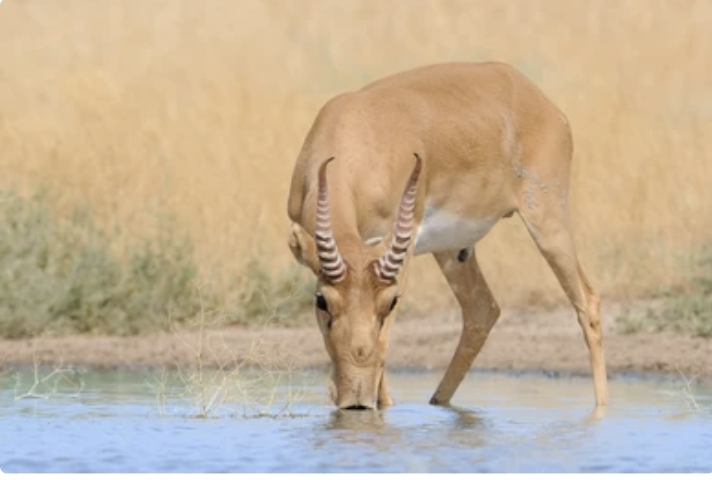saiga: (271, 40, 615, 419)
